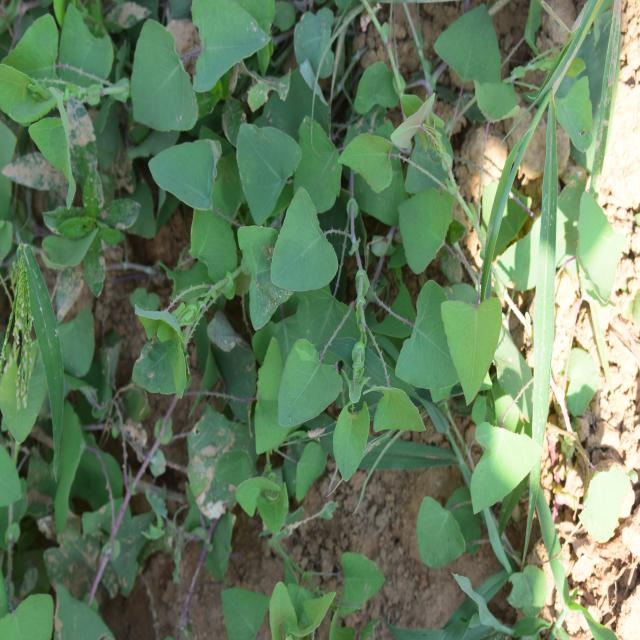Asiatic_Smartweed: (273, 206, 495, 469), (130, 102, 293, 400)
